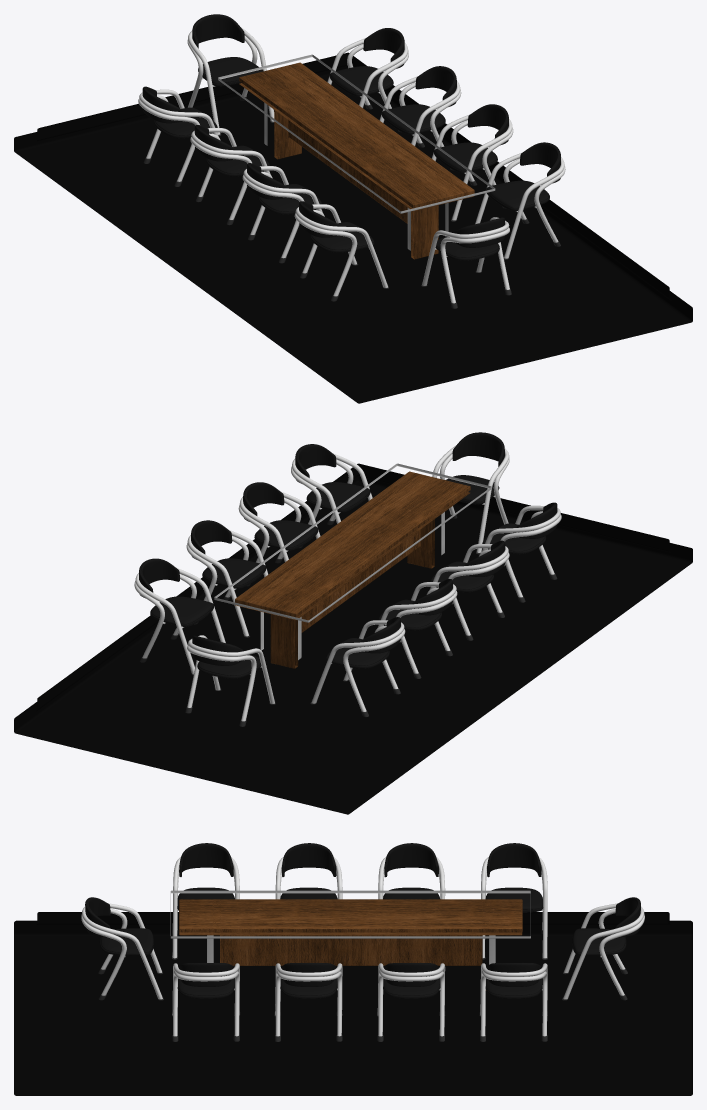
File: Conference-table-b.glb
3 views of the same model, one above another, from view 1: azimuth 30°, elevation 25°; view 2: azimuth 150°, elevation 25°; view 3: azimuth 270°, elevation 25° (orthographic).
Parts seen in each view (by area): view 1: zamain_4, MIZ_3, Object_4, Object_5, Object_8, Object_9, Object_6; view 2: zamain_4, MIZ_3, Object_4, Object_5, Object_8, Object_9, Object_6; view 3: zamain_4, MIZ_3, Object_4, Object_5, Object_9, Object_8, Object_6.
Part boxes in pixels (x1,y1,x2,y2): zamain_4: (14,52,692,403); MIZ_3: (218,54,495,259); Object_4: (142,28,560,252); Object_5: (138,38,565,296); Object_8: (192,14,504,260); Object_9: (187,27,509,303); Object_6: (143,104,560,301); zamain_4: (14,463,692,814); MIZ_3: (214,463,491,668); Object_4: (139,444,557,668); Object_5: (134,453,561,711); Object_8: (192,432,504,678); Object_9: (187,445,509,721); Object_6: (139,520,557,717); zamain_4: (14,912,692,1095); MIZ_3: (170,890,530,990); Object_4: (177,843,543,998); Object_5: (172,857,547,1036); Object_9: (81,903,644,999); Object_8: (85,897,640,955); Object_6: (172,929,547,1041).
Size of the model in its own units: 3.47 by 1.14 by 6.17.
Materials: 6 (1 with a texture image).
